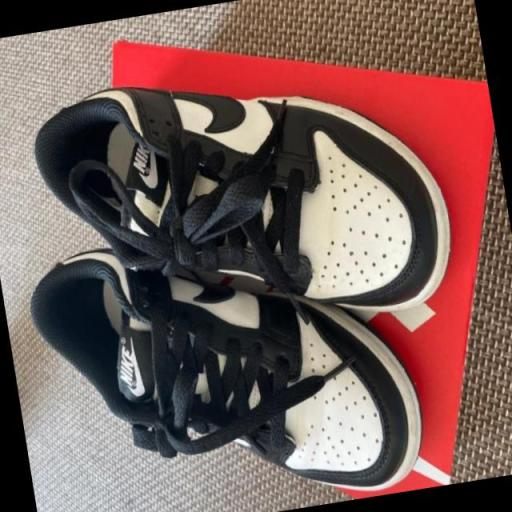Nike: (126, 339, 148, 398), (115, 344, 136, 387)
